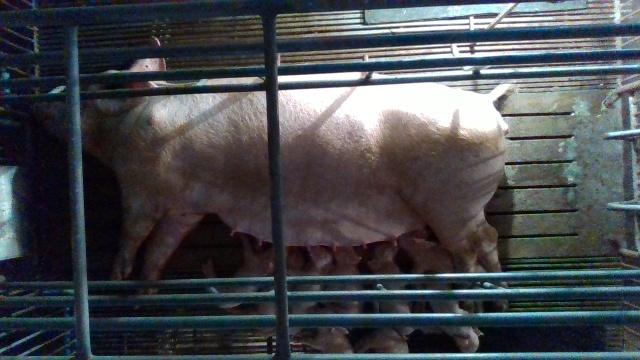piglet: (398, 234, 508, 312), (252, 246, 335, 340), (366, 240, 442, 339), (200, 232, 288, 310), (426, 284, 486, 354), (321, 245, 366, 331), (291, 308, 356, 354), (358, 327, 410, 353)
sow-sleep-lactate: (30, 35, 513, 312)
